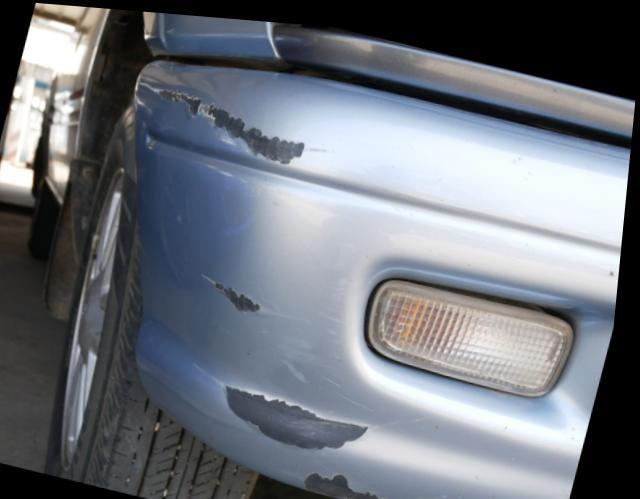scratch: (151, 78, 312, 163), (223, 373, 379, 446), (202, 266, 272, 311), (308, 459, 388, 498)
